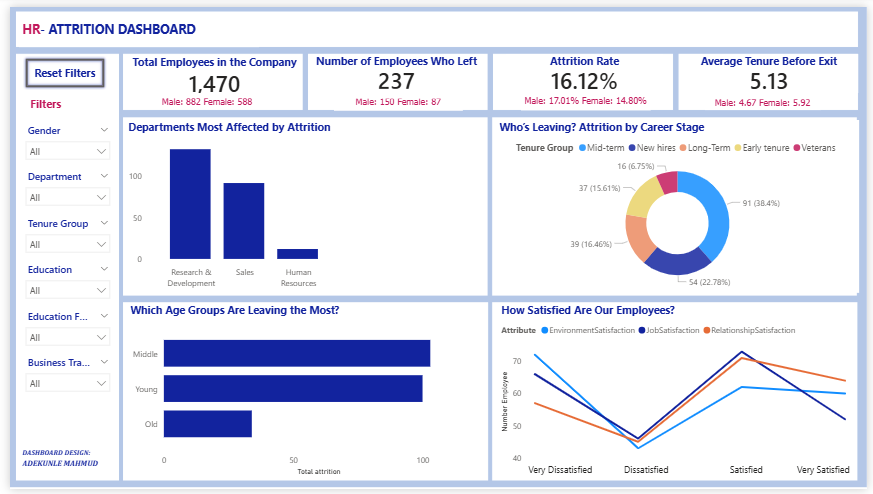

What the dashboard file says about the page in this screenshot:
{"tool":"powerbi","page":{"name":"Page 1","canvas":[1280,720],"ordinal":0},"visuals":[{"type":"card","title":"Total Employees in the Company","fields":{"Values":["CountNonNull(WA_Fn-UseC_-HR-Employee-Attrition.EmployeeCount)"]},"box":[174.6,71.6,261.2,64.2],"z":0},{"type":"card","title":"Number of Employees Who Left","fields":{"Values":["WA_Fn-UseC_-HR-Employee-Attrition.Total attrition"]},"box":[446.3,70.1,261.2,56.7],"z":1000},{"type":"card","title":"Gender","fields":{"Values":["WA_Fn-UseC_-HR-Employee-Attrition.Attrition Gender"]},"box":[483.5,129.4,191.8,24.7],"z":2000},{"type":"card","fields":{"Values":["WA_Fn-UseC_-HR-Employee-Attrition.Total Employee Gender"]},"box":[200,128.4,188.1,23.9],"z":3000},{"type":"card","title":"Attrition Rate","fields":{"Values":["WA_Fn-UseC_-HR-Employee-Attrition.Attrition Rate"]},"box":[740.3,70.1,234.3,58.2],"z":4000},{"type":"card","fields":{"Values":["WA_Fn-UseC_-HR-Employee-Attrition.Attrition Rate Gender"]},"box":[762.4,128.2,192.9,25.9],"z":5000},{"type":"card","title":"Average Tenure Before Exit","fields":{"Values":["WA_Fn-UseC_-HR-Employee-Attrition.Average Tenure of Leavers"]},"box":[1000,70.1,265.7,58.2],"z":6000},{"type":"card","fields":{"Values":["WA_Fn-UseC_-HR-Employee-Attrition.Average Tenure Gender"]},"box":[1037.3,129.9,171.6,23.9],"z":7000},{"type":"clusteredColumnChart","title":"Departments Most Affected by Attrition","fields":{"Category":["WA_Fn-UseC_-HR-Employee-Attrition.Department"],"Y":["WA_Fn-UseC_-HR-Employee-Attrition.Total attrition"]},"box":[171.7,168.3,328.3,258.3],"z":8000},{"type":"donutChart","title":"Who’s Leaving? Attrition by Career Stage","fields":{"Category":["WA_Fn-UseC_-HR-Employee-Attrition.Tenure Group"],"Y":["WA_Fn-UseC_-HR-Employee-Attrition.Total attrition"]},"box":[725,168.3,541.7,258.3],"z":9000},{"type":"clusteredBarChart","title":"Which Age Groups Are Leaving the Most?","fields":{"Category":["WA_Fn-UseC_-HR-Employee-Attrition.Age Group"],"Y":["WA_Fn-UseC_-HR-Employee-Attrition.Total attrition"]},"box":[175,441.7,533.3,261.7],"z":10000},{"type":"lineChart","title":"How Satisfied Are Our Employees?","fields":{"Series":["WA_Fn-UseC_-HR-Employee-Attrition (2).Attribute"],"Category":["WA_Fn-UseC_-HR-Employee-Attrition (2).Value"],"Y":["CountNonNull(WA_Fn-UseC_-HR-Employee-Attrition (2).EmployeeNumber)"]},"box":[728.4,441.8,532.8,261.2],"z":11000},{"type":"slicer","fields":{"Values":["WA_Fn-UseC_-HR-Employee-Attrition.Gender"]},"box":[14.1,168.2,145.9,69.4],"z":12000},{"type":"slicer","fields":{"Values":["WA_Fn-UseC_-HR-Employee-Attrition.Department"]},"box":[14.1,237.6,145.9,69.4],"z":13000},{"type":"slicer","fields":{"Values":["WA_Fn-UseC_-HR-Employee-Attrition.Tenure Group"]},"box":[14.1,307.1,145.9,69.4],"z":14000},{"type":"slicer","fields":{"Values":["WA_Fn-UseC_-HR-Employee-Attrition.Education"]},"box":[14.1,376.5,145.9,69.4],"z":15000},{"type":"slicer","fields":{"Values":["WA_Fn-UseC_-HR-Employee-Attrition.EducationField"]},"box":[14.1,445.9,145.9,69.4],"z":16000},{"type":"slicer","fields":{"Values":["WA_Fn-UseC_-HR-Employee-Attrition.BusinessTravel"]},"box":[14.1,515.3,145.9,69.4],"z":17000},{"type":"textbox","box":[25.9,128.2,134.1,35.3],"z":18000},{"type":"textbox","box":[13.4,14.9,358.2,44.8],"z":19000},{"type":"textbox","box":[13.4,649.3,146.3,50.7],"z":20000},{"type":"actionButton","box":[19.4,73.1,125.4,50.7],"z":21000},{"type":"textbox","box":[768.5,676.1,492.4,27.2],"z":21001}]}

Visuals, with their boxes in screenshot pixels (x1, y1, x2, y2), scaled from the page's 1280x720 canvas onto the 873x494 screenshot:
"Total Employees in the Company" card: BBox(119, 49, 297, 93)
"Number of Employees Who Left" card: BBox(304, 48, 483, 87)
"Gender" card: BBox(330, 89, 461, 106)
card - WA_Fn-UseC_-HR-Employee-Attrition.Total Employee Gender: BBox(136, 88, 265, 104)
"Attrition Rate" card: BBox(505, 48, 665, 88)
card - WA_Fn-UseC_-HR-Employee-Attrition.Attrition Rate Gender: BBox(520, 88, 652, 106)
"Average Tenure Before Exit" card: BBox(682, 48, 863, 88)
card - WA_Fn-UseC_-HR-Employee-Attrition.Average Tenure Gender: BBox(707, 89, 825, 106)
"Departments Most Affected by Attrition" clusteredColumnChart: BBox(117, 115, 341, 293)
"Who’s Leaving? Attrition by Career Stage" donutChart: BBox(494, 115, 864, 293)
"Which Age Groups Are Leaving the Most?" clusteredBarChart: BBox(119, 303, 483, 483)
"How Satisfied Are Our Employees?" lineChart: BBox(497, 303, 860, 482)
slicer - WA_Fn-UseC_-HR-Employee-Attrition.Gender: BBox(10, 115, 109, 163)
slicer - WA_Fn-UseC_-HR-Employee-Attrition.Department: BBox(10, 163, 109, 211)
slicer - WA_Fn-UseC_-HR-Employee-Attrition.Tenure Group: BBox(10, 211, 109, 258)
slicer - WA_Fn-UseC_-HR-Employee-Attrition.Education: BBox(10, 258, 109, 306)
slicer - WA_Fn-UseC_-HR-Employee-Attrition.EducationField: BBox(10, 306, 109, 354)
slicer - WA_Fn-UseC_-HR-Employee-Attrition.BusinessTravel: BBox(10, 354, 109, 401)
textbox: BBox(18, 88, 109, 112)
textbox: BBox(9, 10, 253, 41)
textbox: BBox(9, 445, 109, 480)
actionButton: BBox(13, 50, 99, 85)
textbox: BBox(524, 464, 860, 483)
